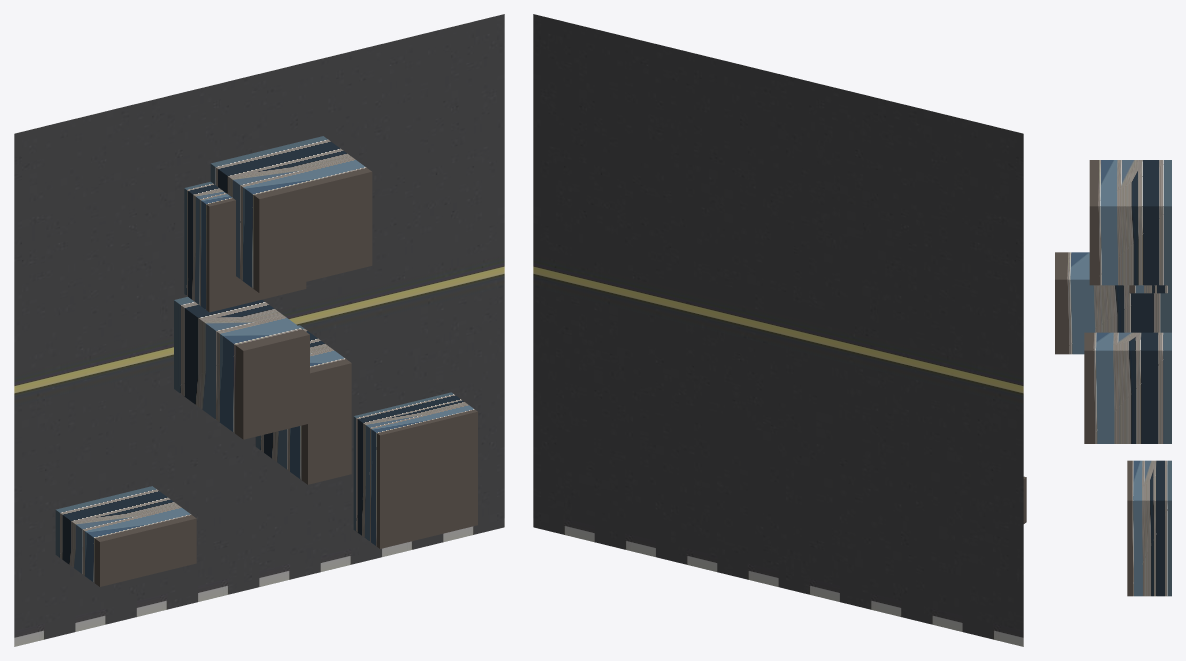
3 renders of one model, left to right at view 1: azimuth 30°, elevation 25°; view 2: azimuth 150°, elevation 25°; view 3: azimuth 270°, elevation 25°, orthographic. The views are drawn at different scales.
Bounding box in the file's own units: 119 × 119 × 29.25.
2 materials, 2 textured.
